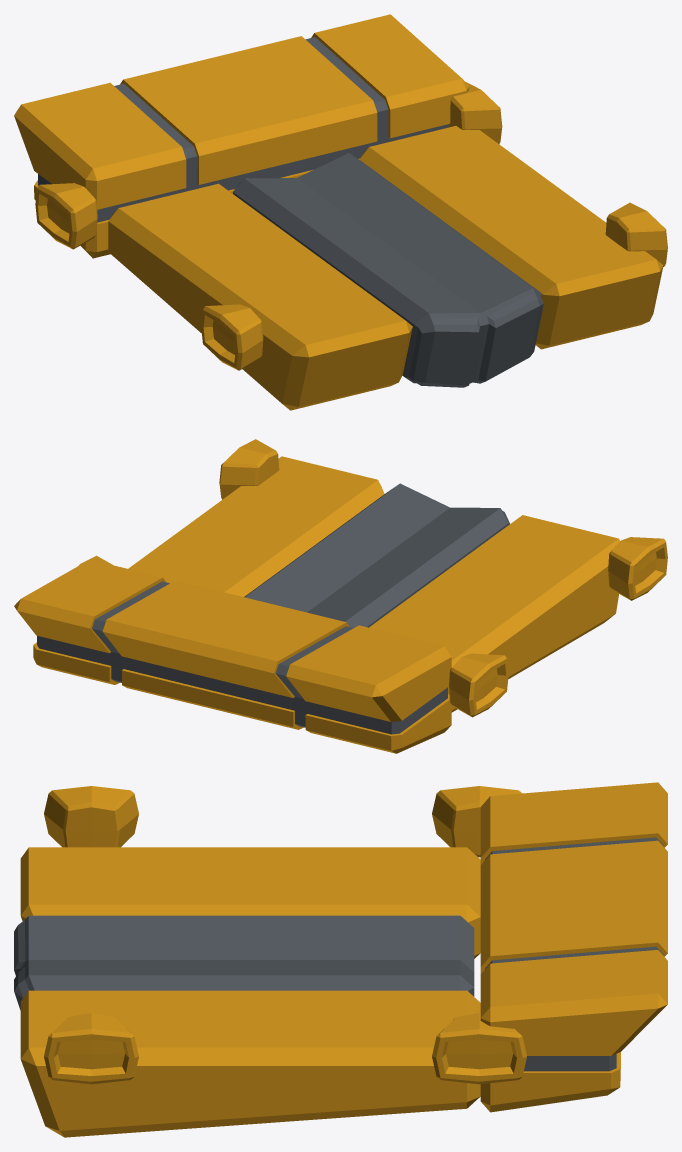
Rendered from Dropship_01_Base_Yellow.fbx.
3 renders of one model, top to bottom at view 1: azimuth 30°, elevation 25°; view 2: azimuth 150°, elevation 25°; view 3: azimuth 270°, elevation 25°, orthographic. The views are drawn at different scales.
Visible parts, largest first — view 1: Dropship_01_Base_Yellow; view 2: Dropship_01_Base_Yellow; view 3: Dropship_01_Base_Yellow.
Part boxes in pixels (left/top/right/bottom): Dropship_01_Base_Yellow: left=14, top=14, right=667, bottom=410; Dropship_01_Base_Yellow: left=14, top=439, right=667, bottom=753; Dropship_01_Base_Yellow: left=14, top=782, right=667, bottom=1137.
Bounding box in the file's own units: 925 × 292 × 1041.
1 material, 1 textured.
